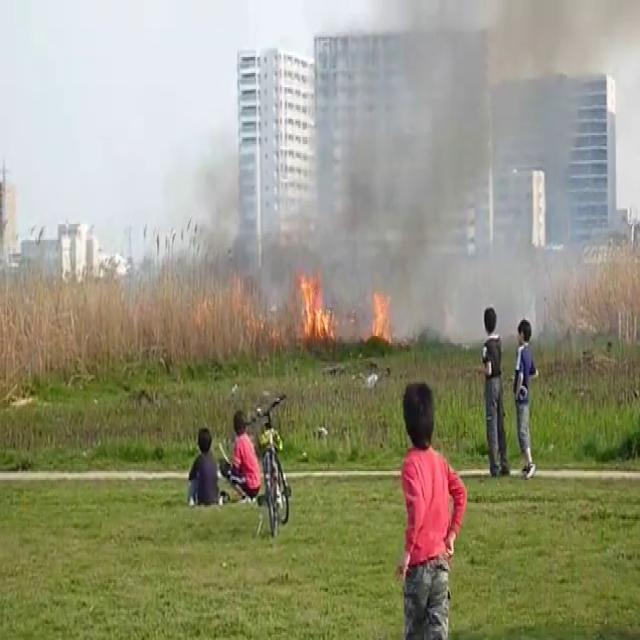Fire: (287, 259, 337, 349), (364, 279, 397, 352)
Smoke: (303, 0, 640, 325)
